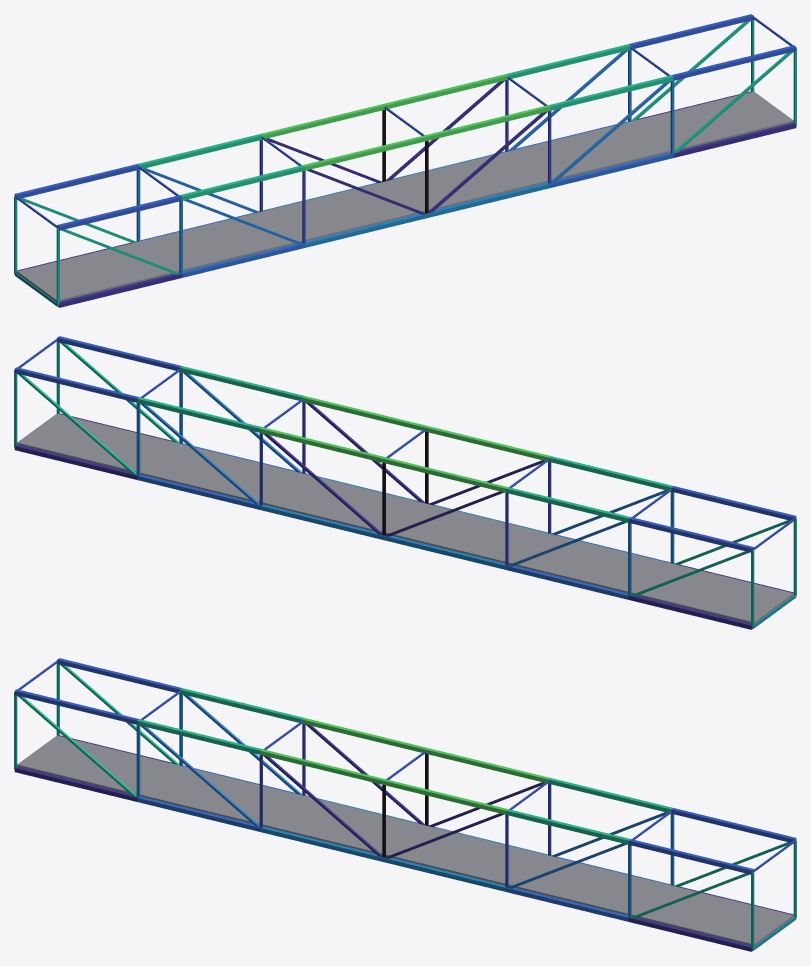
Rendered from 30_3_6_HEA240.glb.
3 views of the same model, one above another, from view 1: azimuth 30°, elevation 25°; view 2: azimuth 150°, elevation 25°; view 3: azimuth 330°, elevation 25° (orthographic).
Size of the model in its own units: 30.09 by 3.16 by 3.16.
